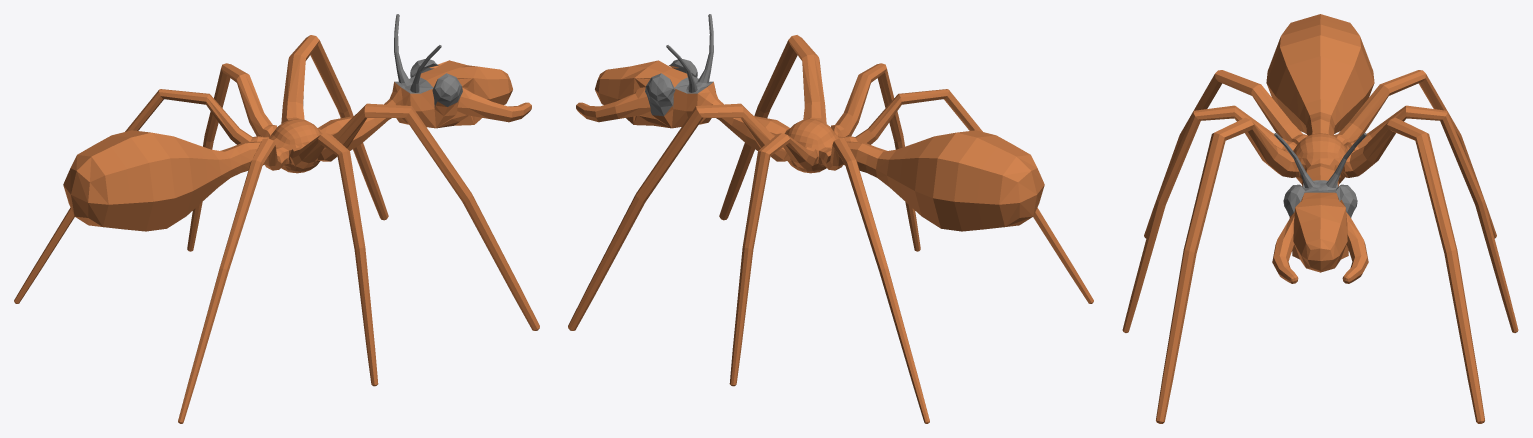
3 renders of one model, left to right at view 1: azimuth 30°, elevation 25°; view 2: azimuth 150°, elevation 25°; view 3: azimuth 270°, elevation 25°, orthographic. The views are drawn at different scales.
Visible parts, largest first — view 1: abdo, legs_front, legs_back, Legs_mid, neck, eyes, mand, head, mid, antennae; view 2: abdo, legs_front, legs_back, Legs_mid, neck, mand, eyes, head, mid, antennae; view 3: legs_front, abdo, Legs_mid, legs_back, head, mand, mid, antennae, neck, eyes.
Boxes of the visible parts, box(x1,y1,x2,y2) form: abdo: box(63, 130, 275, 231); legs_front: box(281, 35, 539, 330); legs_back: box(14, 89, 289, 423); Legs_mid: box(187, 63, 378, 386); neck: box(318, 60, 472, 150); eyes: box(410, 59, 474, 127); mand: box(436, 78, 531, 128); head: box(450, 60, 512, 124); mid: box(269, 119, 323, 173); antennae: box(394, 14, 441, 93); abdo: box(832, 130, 1044, 231); legs_front: box(568, 35, 826, 330); legs_back: box(818, 89, 1093, 423); Legs_mid: box(729, 63, 920, 386); neck: box(635, 60, 790, 150); mand: box(576, 78, 671, 128); eyes: box(633, 59, 697, 127); head: box(595, 60, 657, 124); mid: box(784, 119, 838, 173); antennae: box(666, 14, 713, 93); legs_front: box(1156, 117, 1484, 423); abdo: box(1266, 14, 1374, 135); Legs_mid: box(1122, 105, 1518, 332); legs_back: box(1144, 70, 1496, 238); head: box(1292, 205, 1348, 272); mand: box(1272, 199, 1368, 283); mid: box(1293, 133, 1347, 183); antennae: box(1274, 133, 1366, 192); neck: box(1295, 163, 1345, 207); eyes: box(1283, 184, 1357, 218).
Size of the model in its own units: 265 by 145 by 192.
